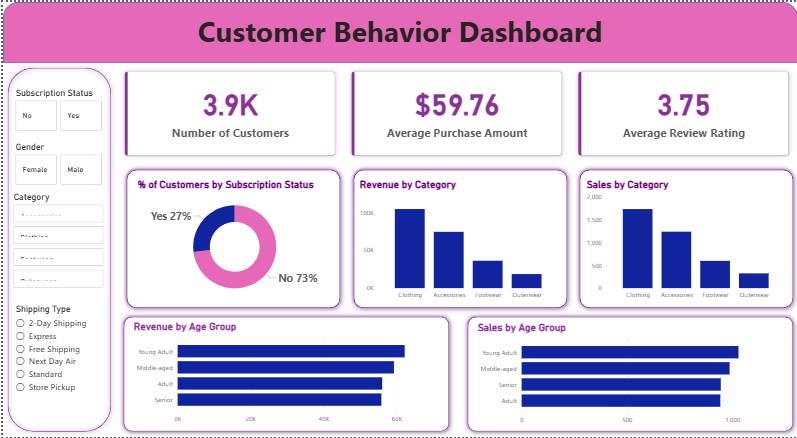

Layout of this report page (visuals, bound fields, positions):
{"tool":"powerbi","page":{"name":"Page 1","canvas":[1500,820],"ordinal":0},"visuals":[{"type":"cardVisual","fields":{"Data":["public customer.Number of Customers","public customer.Average Purchase Amount","public customer.Average Review Rating"]},"box":[212.9,115.3,1286.5,191.6],"z":2000},{"type":"shape","box":[218.3,585.6,631.7,234.2],"z":2500,"group":"g1"},{"type":"shape","box":[0,0,1499.4,115.3],"z":3000},{"type":"textbox","box":[0,12.4,1499.4,102.9],"z":4000},{"type":"shape","box":[225.4,307,420.5,278.6],"z":5000},{"type":"donutChart","title":"% of Customers by Subscription Status","fields":{"Category":["public customer.subscription_status"],"Y":["Sum(public customer.customer_id)"]},"box":[248.4,331.8,376.2,237.8],"z":6000},{"type":"shape","box":[1078.9,307,420.5,278.6],"z":7000},{"type":"shape","box":[652.1,307,420.5,278.6],"z":8000},{"type":"clusteredColumnChart","title":"Revenue by Category","fields":{"Y":["Sum(public customer.purchase_amount)"],"Category":["public customer.category"]},"box":[667.2,331.8,385.1,237.8],"z":9000},{"type":"clusteredColumnChart","title":"Sales by Category","fields":{"Y":["Sum(public customer.customer_id)"],"Category":["public customer.category"]},"box":[1096.6,331.8,385.1,237.8],"z":10000},{"type":"shape","box":[0,115.3,212.9,704.5],"z":11000},{"type":"advancedSlicerVisual","fields":{"Values":["public customer.subscription_status"]},"box":[19.5,161.5,173.9,85.2],"z":12000},{"type":"advancedSlicerVisual","fields":{"Values":["public customer.gender"]},"box":[19.5,264.4,173.9,85.2],"z":13000},{"type":"advancedSlicerVisual","fields":{"Values":["public customer.category"]},"box":[14.2,358.4,179.2,186.3],"z":14000},{"type":"listSlicer","fields":{"Values":["public customer.shipping_type"]},"box":[19.5,569.6,168.6,220],"z":15000},{"type":"shape","box":[867.7,585.6,631.7,234.2],"z":16000},{"type":"clusteredBarChart","title":"Sales by Age Group","fields":{"Y":["Sum(public customer.customer_id)"],"Category":["public customer.age_group"]},"box":[890.8,601.5,585.6,204.1],"z":17000},{"type":"clusteredBarChart","title":"Revenue by Age Group","fields":{"Y":["Sum(public customer.purchase_amount)"],"Category":["public customer.age_group"]},"box":[241.4,601.6,585.6,204.1],"z":17500,"group":"g1"},{"type":"group","id":"g1","title":"Group 1","box":[218.3,585.6,631.7,234.2],"z":17501}]}

Visuals, with their boxes in screenshot pixels (x1, y1, x2, y2), scaled from the page's 1500x820 canvas onto the 797x438 screenshot:
cardVisual - public customer.Number of Customers x public customer.Average Purchase Amount: <bbox>113, 62, 796, 164</bbox>
shape: <bbox>116, 313, 452, 437</bbox>
shape: <bbox>0, 0, 796, 62</bbox>
textbox: <bbox>0, 7, 796, 62</bbox>
shape: <bbox>120, 164, 343, 313</bbox>
"% of Customers by Subscription Status" donutChart: <bbox>132, 177, 332, 304</bbox>
shape: <bbox>573, 164, 796, 313</bbox>
shape: <bbox>346, 164, 570, 313</bbox>
"Revenue by Category" clusteredColumnChart: <bbox>355, 177, 559, 304</bbox>
"Sales by Category" clusteredColumnChart: <bbox>583, 177, 787, 304</bbox>
shape: <bbox>0, 62, 113, 437</bbox>
advancedSlicerVisual - public customer.subscription_status: <bbox>10, 86, 103, 132</bbox>
advancedSlicerVisual - public customer.gender: <bbox>10, 141, 103, 187</bbox>
advancedSlicerVisual - public customer.category: <bbox>8, 191, 103, 291</bbox>
listSlicer - public customer.shipping_type: <bbox>10, 304, 100, 422</bbox>
shape: <bbox>461, 313, 796, 437</bbox>
"Sales by Age Group" clusteredBarChart: <bbox>473, 321, 784, 430</bbox>
"Revenue by Age Group" clusteredBarChart: <bbox>128, 321, 439, 430</bbox>
"Group 1" group: <bbox>116, 313, 452, 437</bbox>
